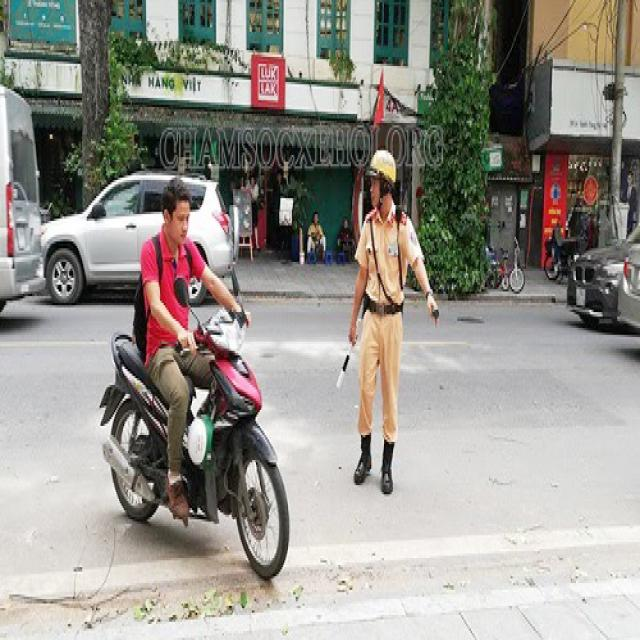Face and Hair: (158, 171, 193, 244)
